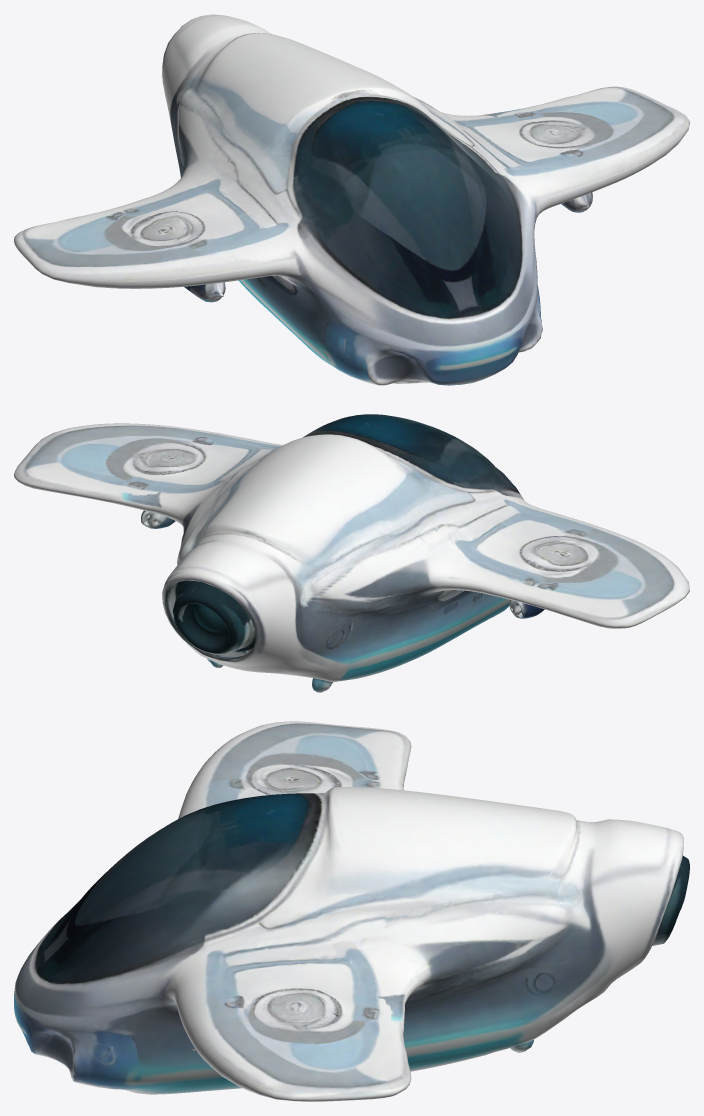
The picture shows the model from 3 angles, top to bottom: view 1: azimuth 30°, elevation 25°; view 2: azimuth 150°, elevation 25°; view 3: azimuth 270°, elevation 25°; orthographic projection. The views are drawn at different scales.
Bounding box in the file's own units: 1.99 × 0.6383 × 1.51.
Materials: 1 (1 with a texture image).
